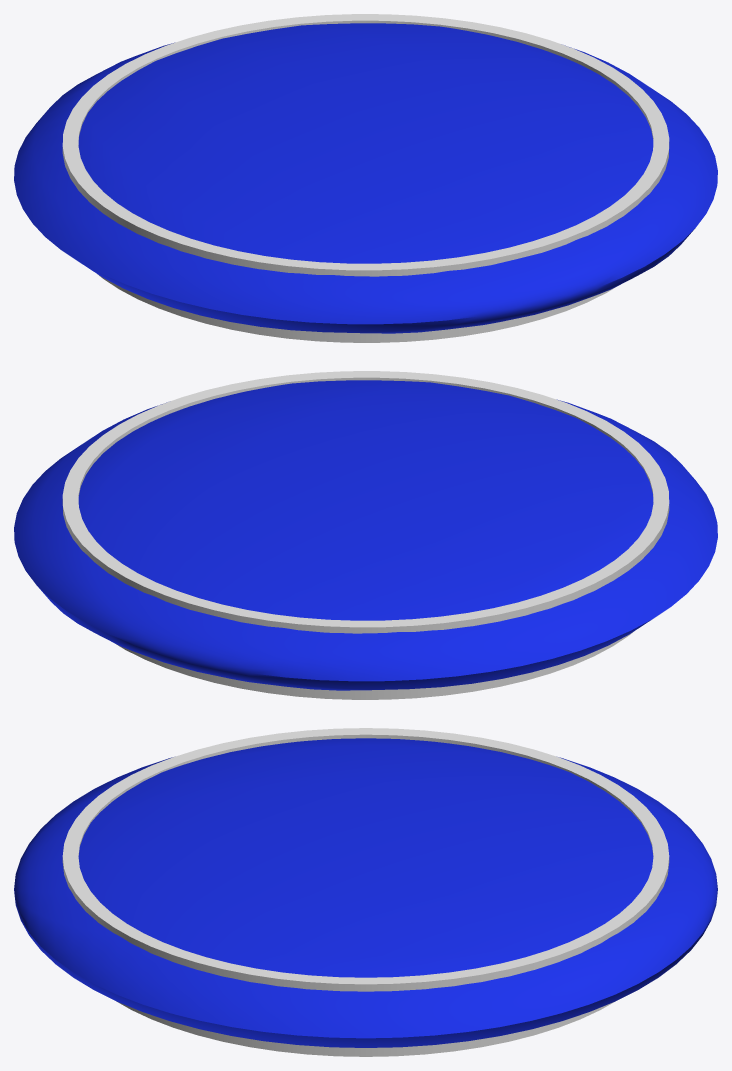
Rendered from HintIcon.fbx.
The picture shows the model from 3 angles, top to bottom: view 1: azimuth 30°, elevation 25°; view 2: azimuth 150°, elevation 25°; view 3: azimuth 270°, elevation 25°; orthographic projection.
Visible parts, largest first — view 1: Circle; view 2: Circle; view 3: Circle.
Part boxes in pixels (box(x1,y1,x2,y2)): Circle: box(14, 14, 717, 342); Circle: box(14, 371, 717, 699); Circle: box(14, 728, 717, 1056).
Bounding box in the file's own units: 200 × 38.3 × 200.
